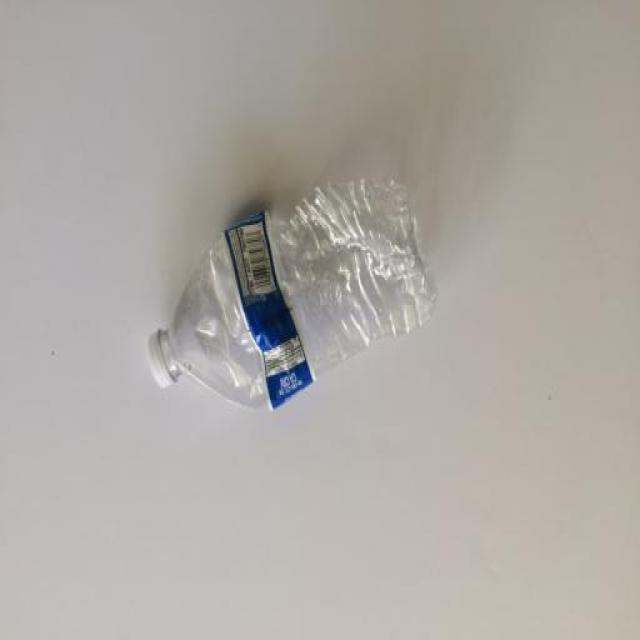plastic_bottle: (147, 156, 446, 439)
